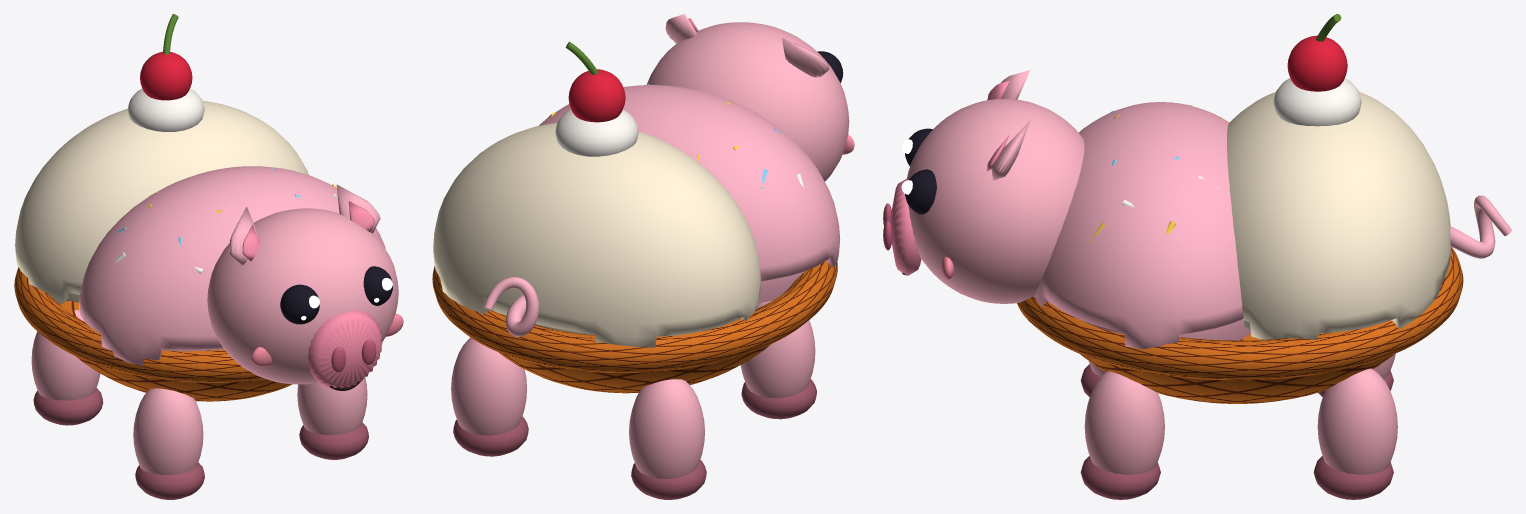
Rendered from pilot_gris_is.glb.
3 views of the same model, side by side, from view 1: azimuth 30°, elevation 25°; view 2: azimuth 150°, elevation 25°; view 3: azimuth 270°, elevation 25° (orthographic). The views are drawn at different scales.
Parts seen in each view (by area): view 1: kropp, hode, bein_vf, bein_vb, bein_hf; view 2: kropp, hode, bein_vb, bein_hb, bein_vf, hale; view 3: kropp, hode, bein_hb, bein_hf, hale.
Part boxes in pixels (x1,y1,x2,y2): kropp: (14, 14, 385, 401); hode: (207, 184, 403, 390); bein_vf: (133, 388, 204, 499); bein_vb: (31, 310, 103, 425); bein_hf: (297, 377, 368, 459); kropp: (432, 41, 840, 393); hode: (647, 14, 854, 181); bein_vb: (629, 379, 706, 499); bein_hb: (451, 337, 528, 456); bein_vf: (740, 301, 816, 419); hale: (484, 277, 539, 336); kropp: (1017, 14, 1463, 403); hode: (883, 70, 1084, 303); bein_hb: (1313, 368, 1397, 499); bein_hf: (1080, 371, 1164, 499); hale: (1450, 195, 1511, 258).
Bounding box in the file's own units: 1.04 × 1.22 × 1.57.
Materials: 18 (1 with a texture image).
